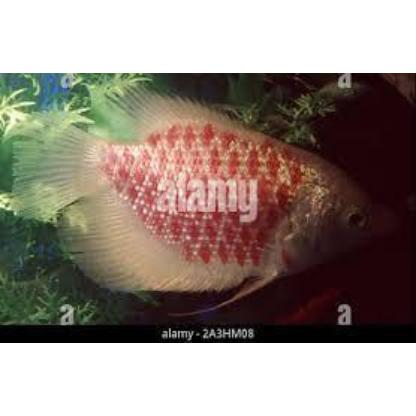gurame: (27, 86, 393, 292)
